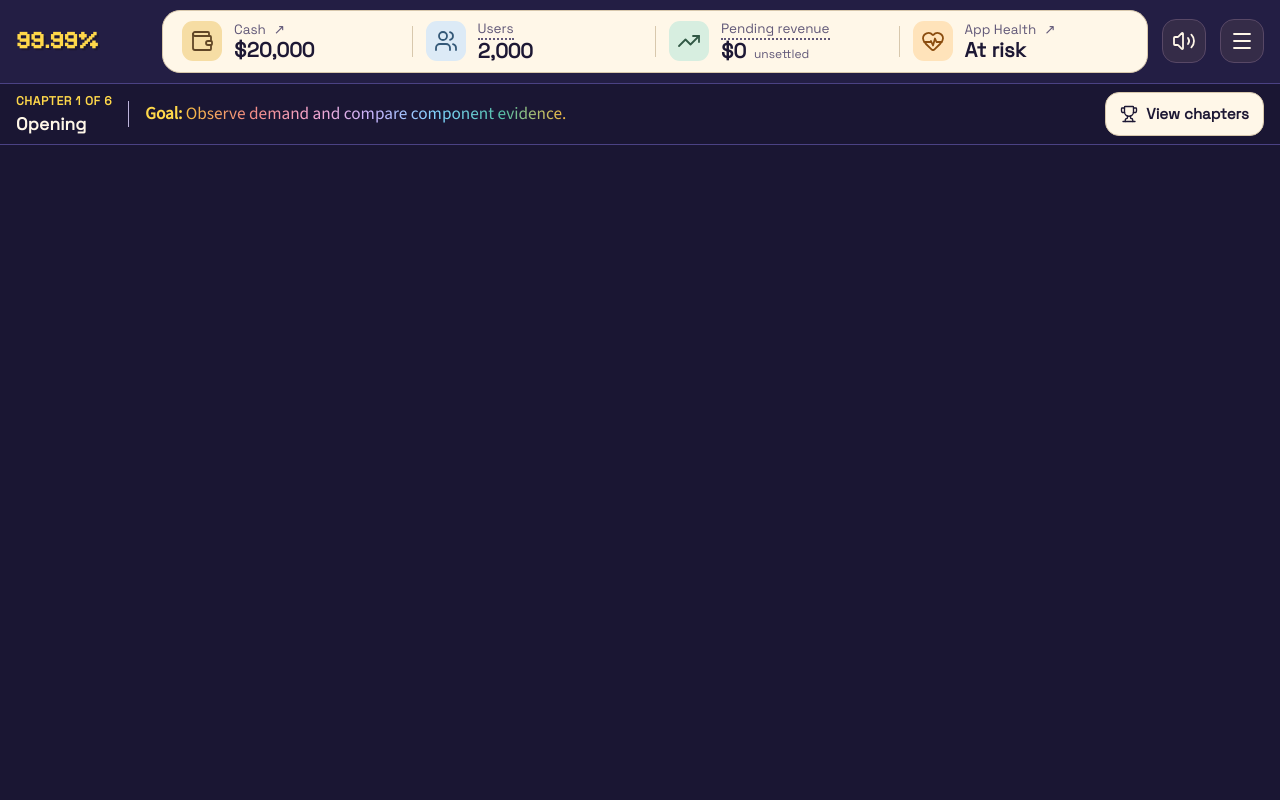
it: keeps the estimated reading visible and the game-specific target explanation under More details
This screenshot has width=1280, height=800.
What coordinates should you click on to do the following:
click the button with aria-label "View app health"
I would click on:
 (1020, 41)
Its box is left=898, top=16, right=1142, bottom=67.
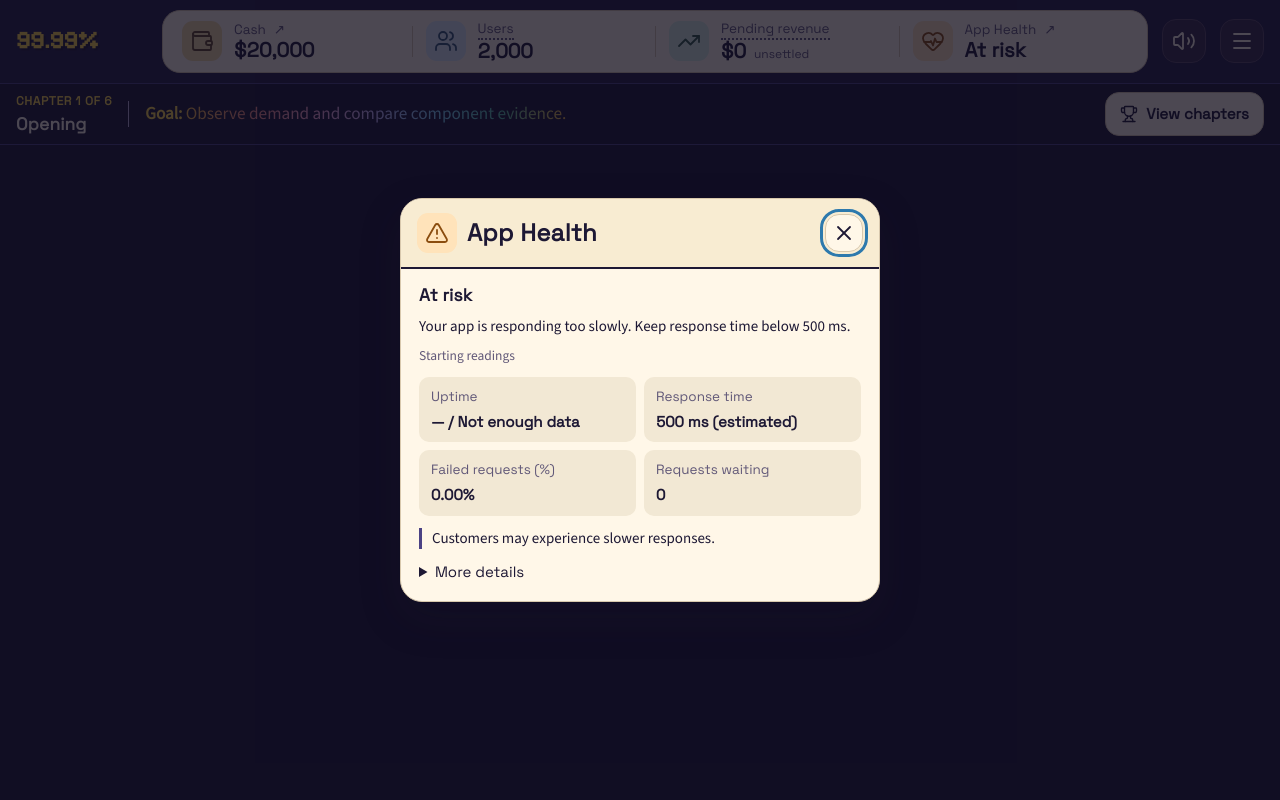
Expected: the text "Your app is responding too slowly. Keep response time below 500 ms." is shown, left=419, top=316, right=861, bottom=338
Expected: the text "500 ms (estimated)" is shown, left=656, top=411, right=797, bottom=432
